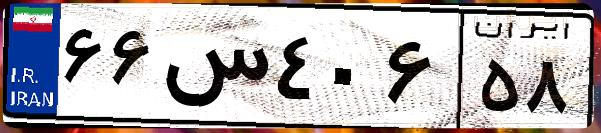0: (330, 28, 385, 110)
4: (270, 28, 330, 110)
5: (475, 38, 525, 113)
6: (385, 28, 445, 110), (57, 26, 110, 100), (110, 28, 158, 98)
8: (525, 38, 570, 115)
س: (158, 20, 270, 120)
